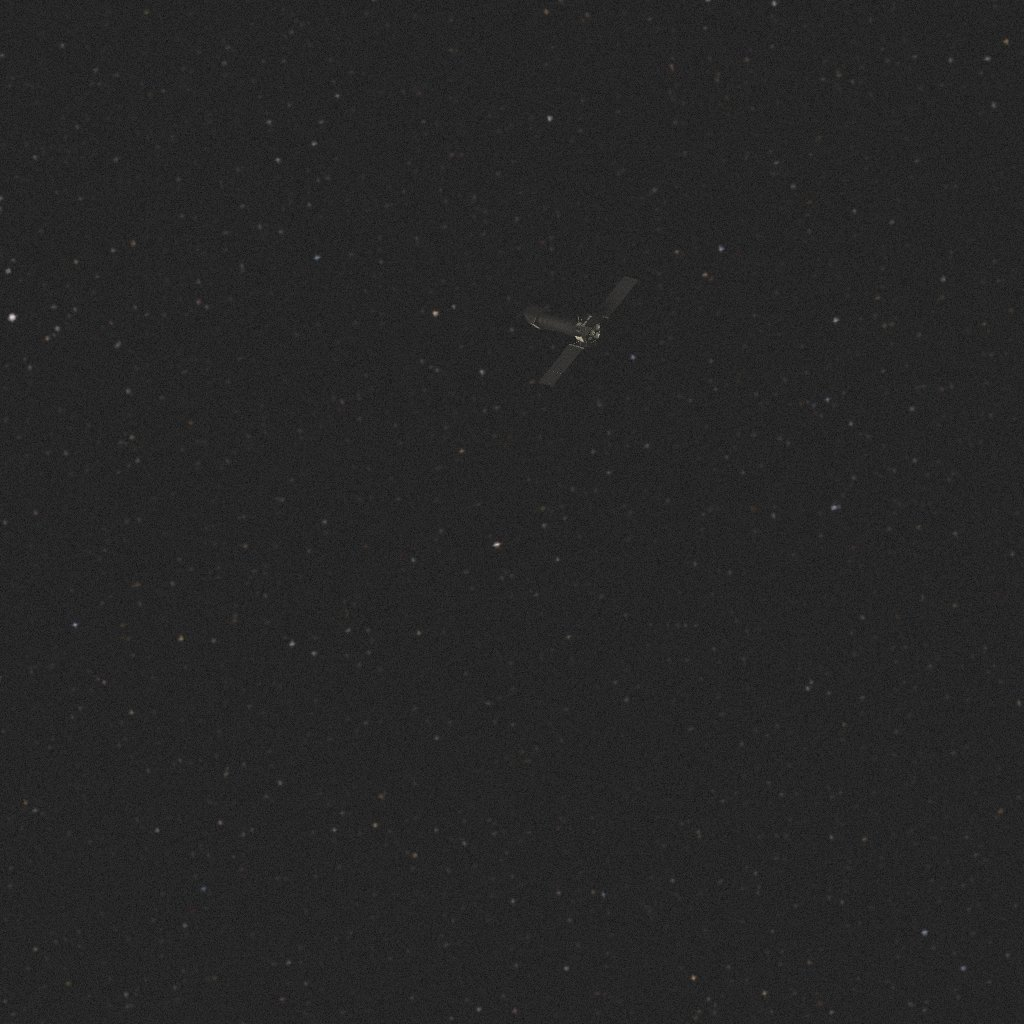xmm_newton: (524, 276, 638, 386)
